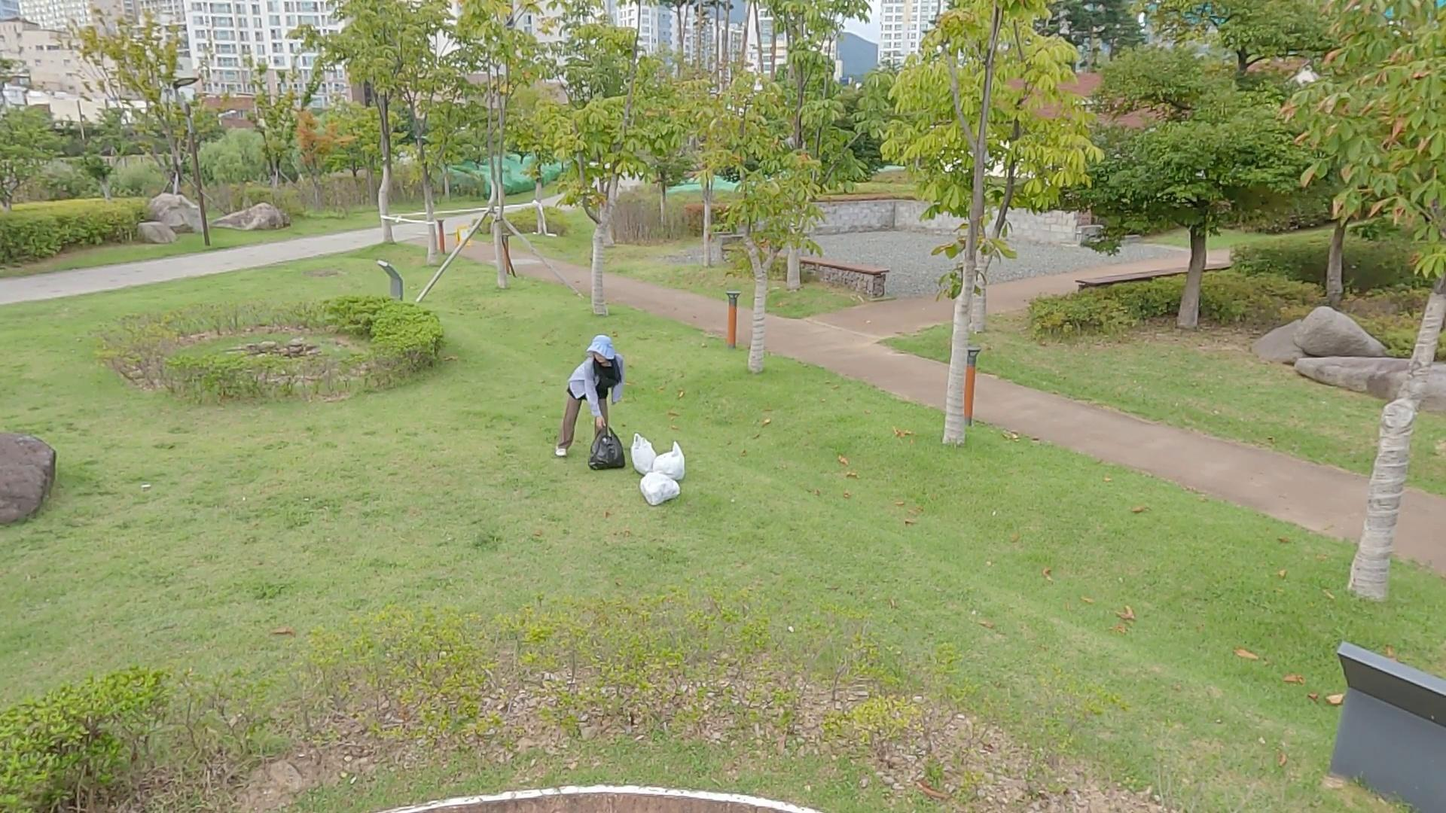person: (555, 334, 628, 457)
trash: (589, 422, 628, 471), (637, 470, 681, 506), (651, 439, 688, 480), (630, 431, 655, 471)
